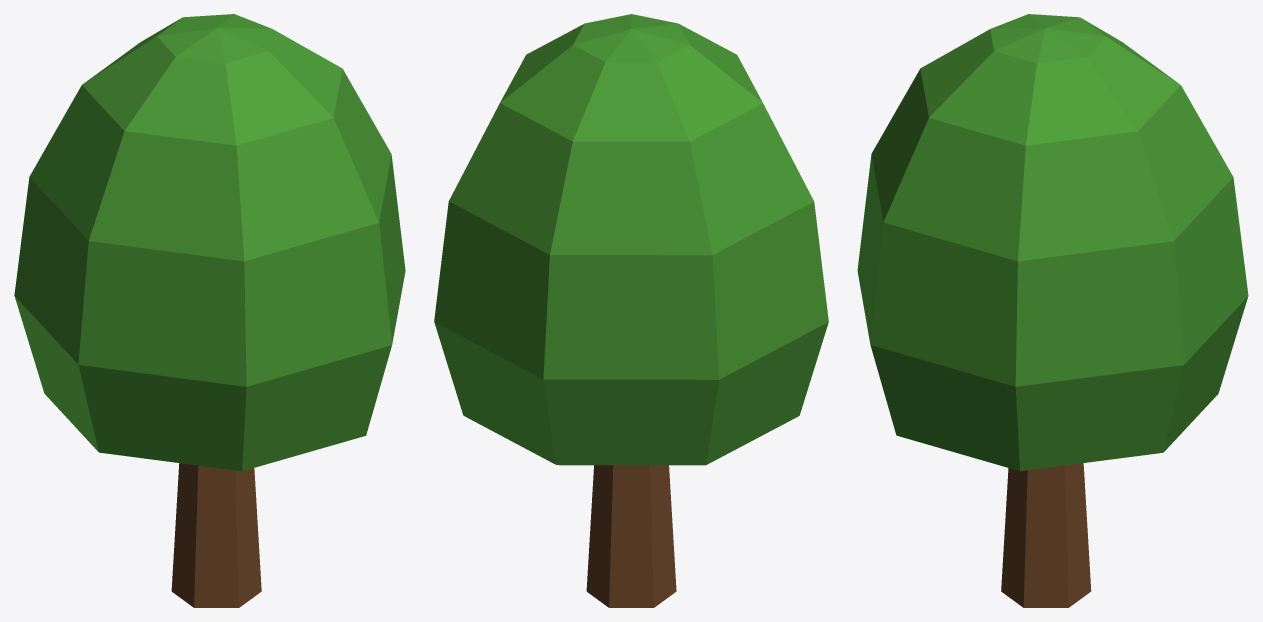
The model's file is tree_3.glb.
3 views of the same model, side by side, from view 1: azimuth 30°, elevation 25°; view 2: azimuth 150°, elevation 25°; view 3: azimuth 270°, elevation 25° (orthographic).
Parts seen in each view (by area): view 1: Tree; view 2: Tree; view 3: Tree.
Boxes of the visible parts, x1,y1,x2,y2 form: Tree: [14, 14, 405, 607]; Tree: [434, 14, 828, 607]; Tree: [857, 14, 1248, 607].
Bounding box in the file's own units: 2.1 × 3.31 × 2.08.
